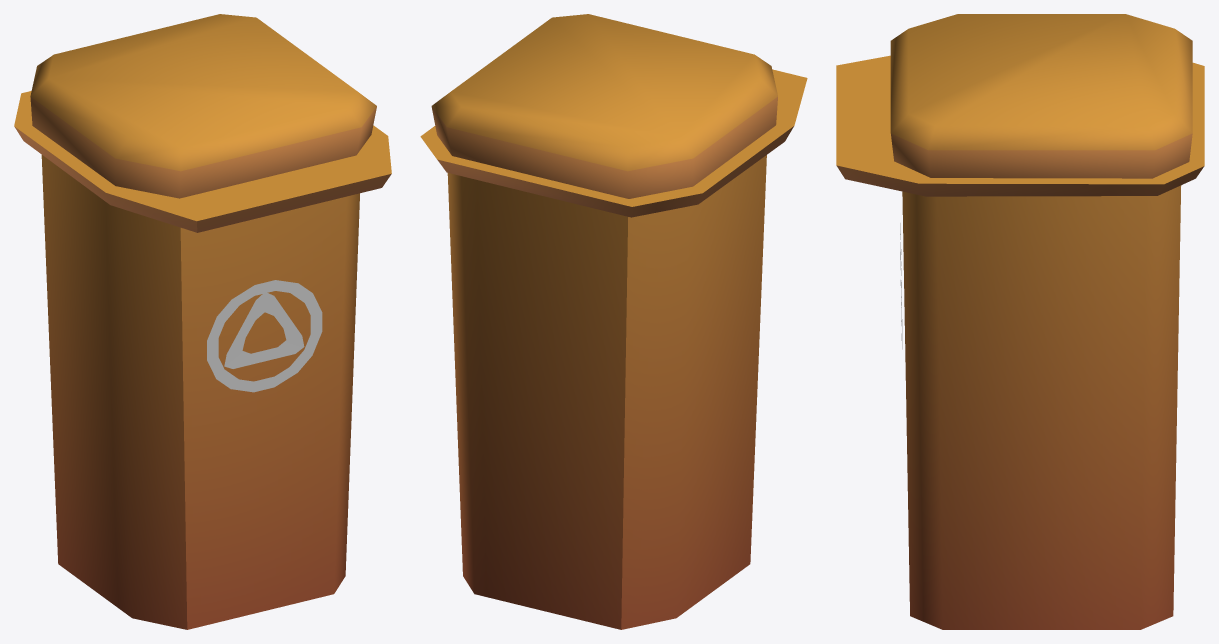
Rendered from Recycle_Bin.fbx.
3 renders of one model, left to right at view 1: azimuth 30°, elevation 25°; view 2: azimuth 150°, elevation 25°; view 3: azimuth 270°, elevation 25°, orthographic. The views are drawn at different scales.
Parts seen in each view (by area): view 1: Cube.077; view 2: Cube.077; view 3: Cube.077.
Boxes of the visible parts, bbox=[...] form: Cube.077: bbox=[14, 14, 391, 629]; Cube.077: bbox=[420, 14, 807, 629]; Cube.077: bbox=[836, 14, 1204, 629].
Bounding box in the file's own units: 88.8 × 152 × 100.
